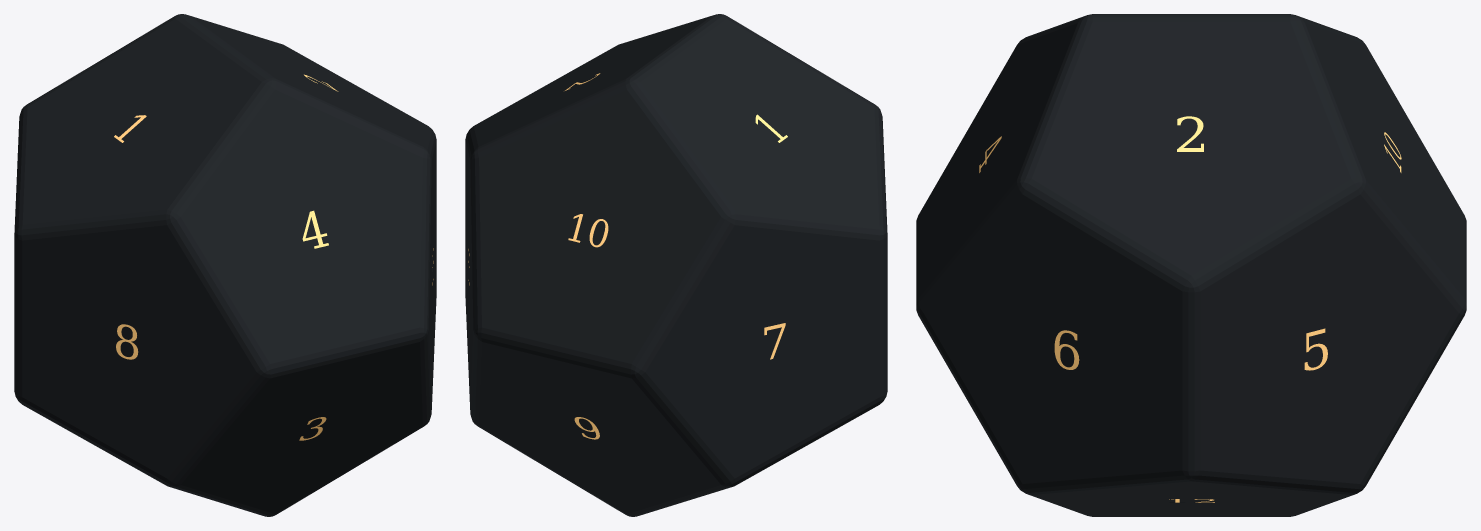
Rendered from d12_boolean_engraved.glb.
The picture shows the model from 3 angles, left to right: view 1: azimuth 30°, elevation 25°; view 2: azimuth 150°, elevation 25°; view 3: azimuth 270°, elevation 25°; orthographic projection. The views are drawn at different scales.
Parts seen in each view (by area): view 1: Sculpted_Obsidian, Recessed_Bronze_Number_Geometry; view 2: Sculpted_Obsidian, Recessed_Bronze_Number_Geometry; view 3: Sculpted_Obsidian, Recessed_Bronze_Number_Geometry.
Part boxes in pixels (left/top/right/bottom): Sculpted_Obsidian: left=14, top=14, right=436, bottom=516; Recessed_Bronze_Number_Geometry: left=114, top=74, right=433, bottom=440; Sculpted_Obsidian: left=465, top=14, right=887, bottom=516; Recessed_Bronze_Number_Geometry: left=468, top=73, right=787, bottom=439; Sculpted_Obsidian: left=916, top=14, right=1466, bottom=516; Recessed_Bronze_Number_Geometry: left=979, top=116, right=1401, bottom=502.
Size of the model in its own units: 1.81 by 1.81 by 1.81.
2 materials, 1 textured.
